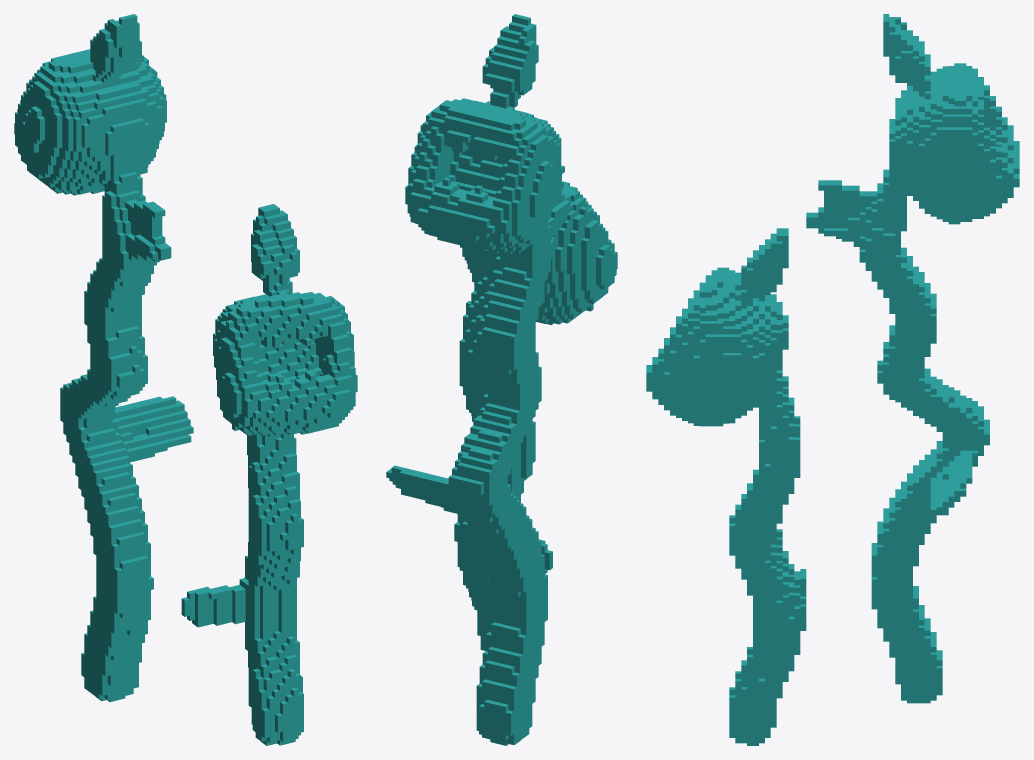
File: Shark.fbx
The picture shows the model from 3 angles, left to right: view 1: azimuth 30°, elevation 25°; view 2: azimuth 150°, elevation 25°; view 3: azimuth 270°, elevation 25°; orthographic projection. The views are drawn at different scales.
Parts seen in each view (by area): view 1: Shark; view 2: Shark; view 3: Shark.
Boxes of the visible parts, <box> form: Shark: <box>14,14,357,745</box>; Shark: <box>386,14,617,745</box>; Shark: <box>646,14,1019,745</box>.
Bounding box in the file's own units: 68.44 × 235 × 117.
